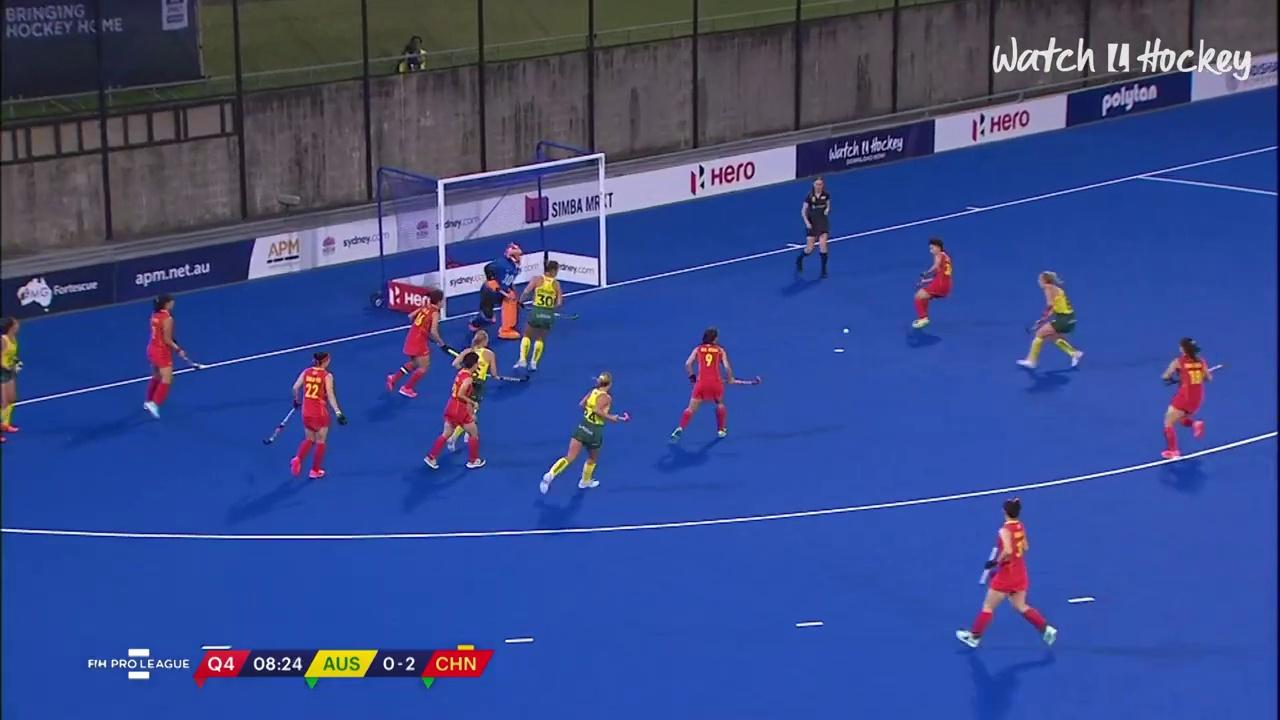ball: (832, 323, 855, 342)
